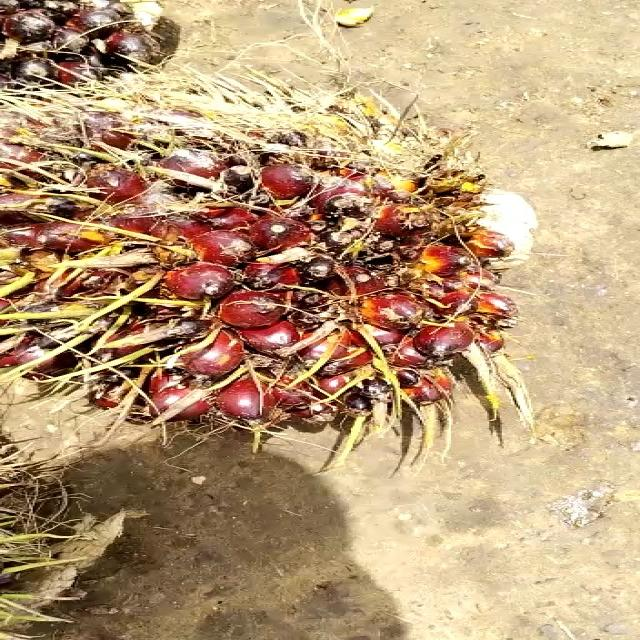palm oil: (0, 71, 539, 447)
